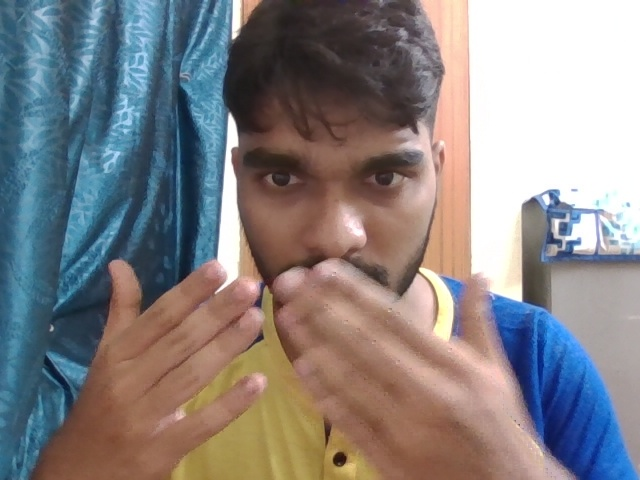Thank You: (80, 238, 534, 480)
